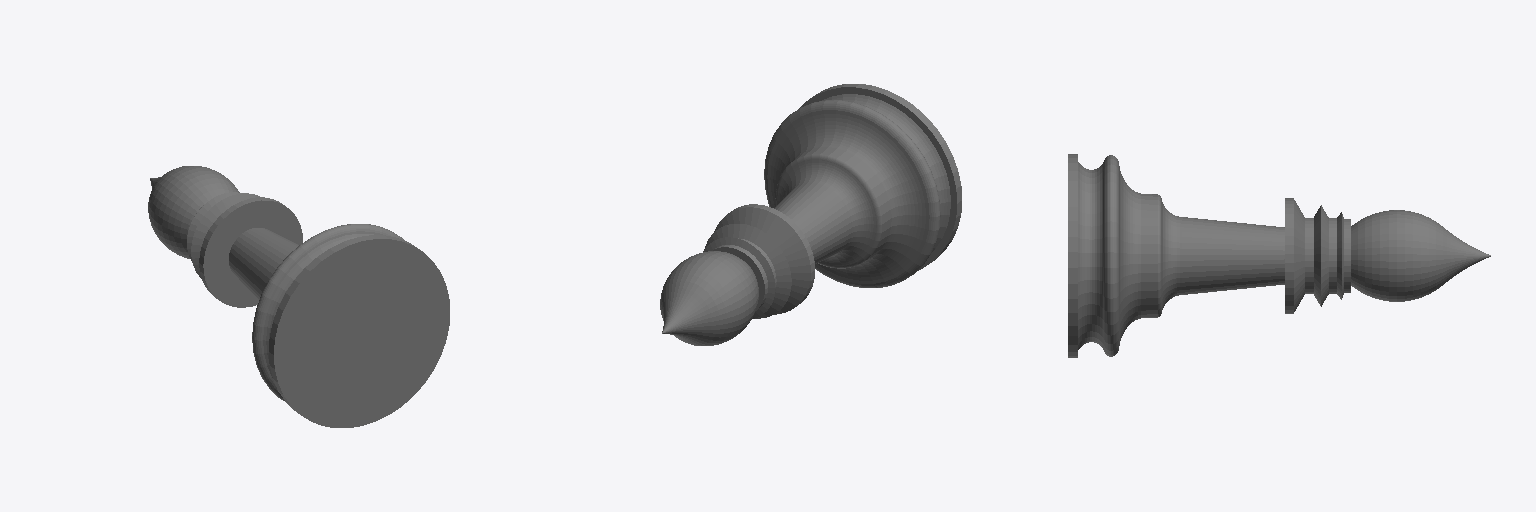
The model's file is bispo.obj.
3 views of the same model, side by side, from view 1: azimuth 30°, elevation 25°; view 2: azimuth 150°, elevation 25°; view 3: azimuth 270°, elevation 25° (orthographic).
Visible parts, largest first — view 1: Mesh1_Group2_Group_40_1_Group1_Model; view 2: Mesh1_Group2_Group_40_1_Group1_Model; view 3: Mesh1_Group2_Group_40_1_Group1_Model.
Boxes of the visible parts, x1=… form: Mesh1_Group2_Group_40_1_Group1_Model: x1=148, y1=166, x2=449, y2=427; Mesh1_Group2_Group_40_1_Group1_Model: x1=660, y1=84, x2=961, y2=345; Mesh1_Group2_Group_40_1_Group1_Model: x1=1068, y1=154, x2=1490, y2=357.
Bounding box in the file's own units: 0.2604 × 0.2604 × 0.5415.